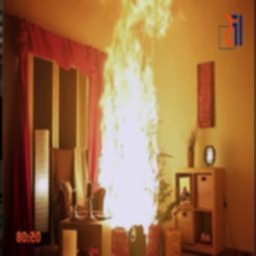fire: (86, 0, 185, 234)
